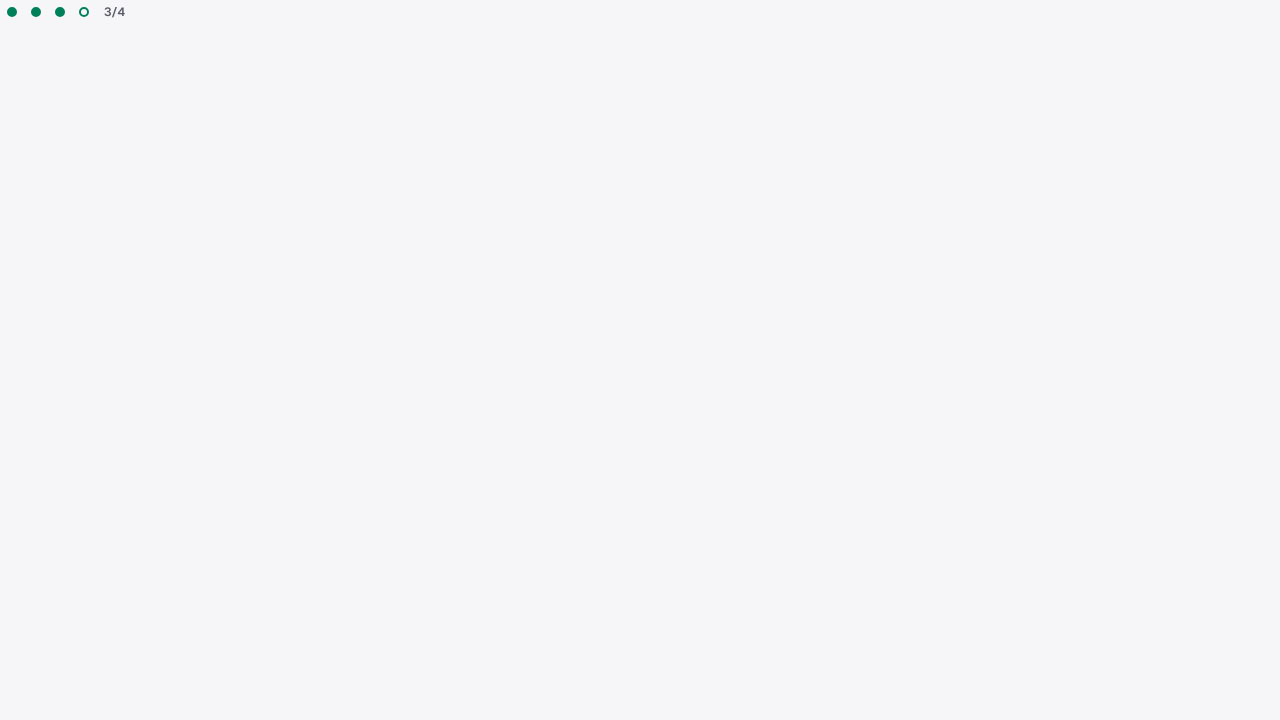
Test case: components/character-sheet/spell-slots › spends one once asked, from the count the dots showed, then closes
The width and height of the screenshot is (1280, 720).
Click the 3rd button named "Spend a 1st-level spell slot, 3 of 4 left": x=60, y=12 [48,0,72,24]
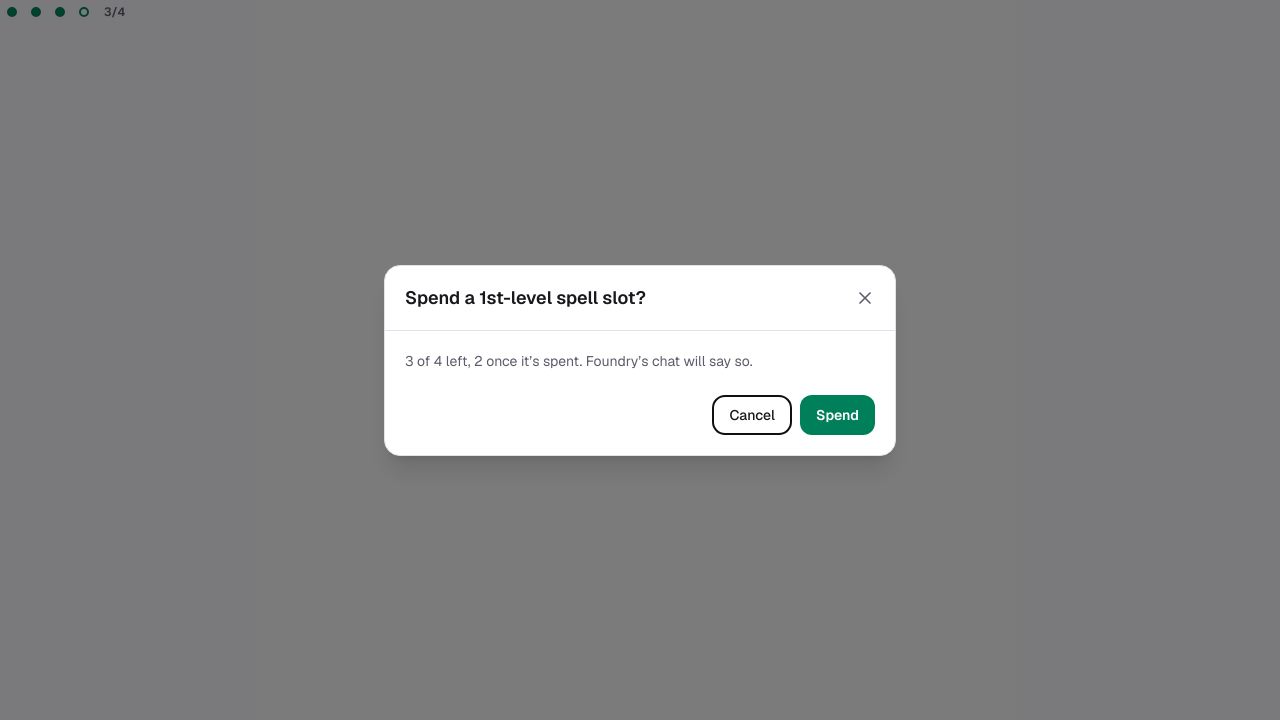
Click the button "Spend": x=838, y=414 [800,394,875,434]
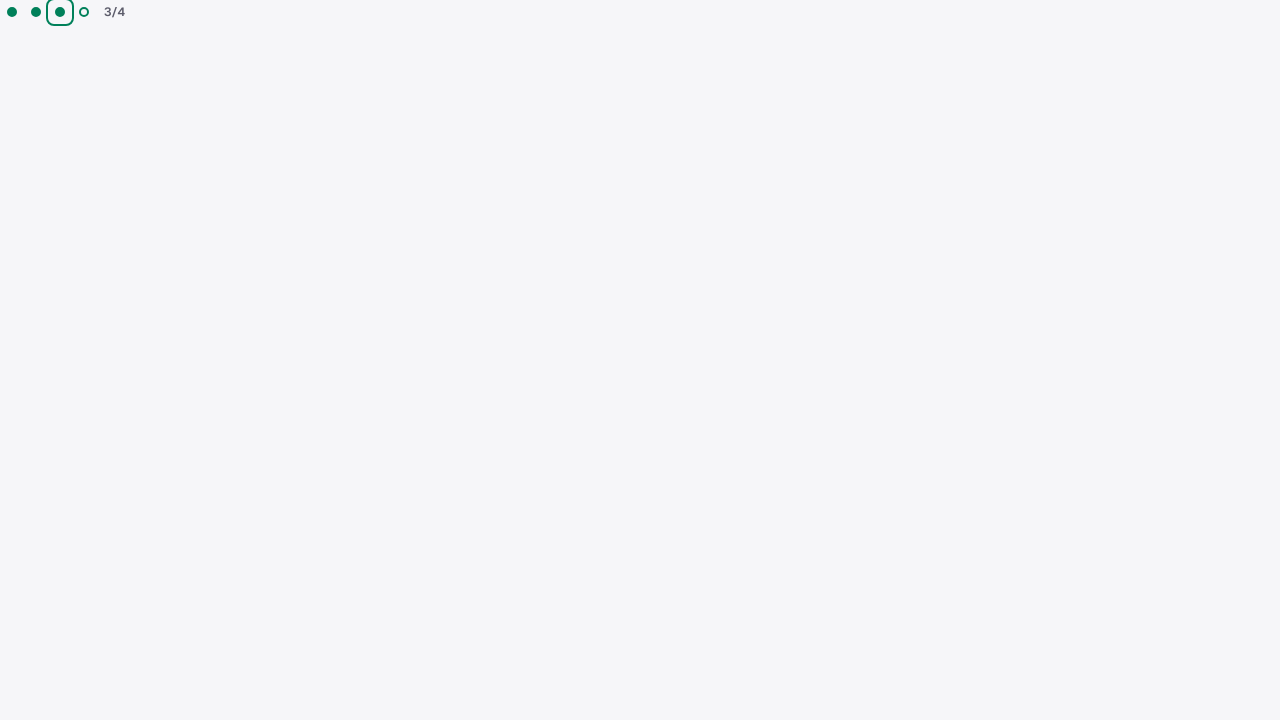
Expected: the dialog is gone
